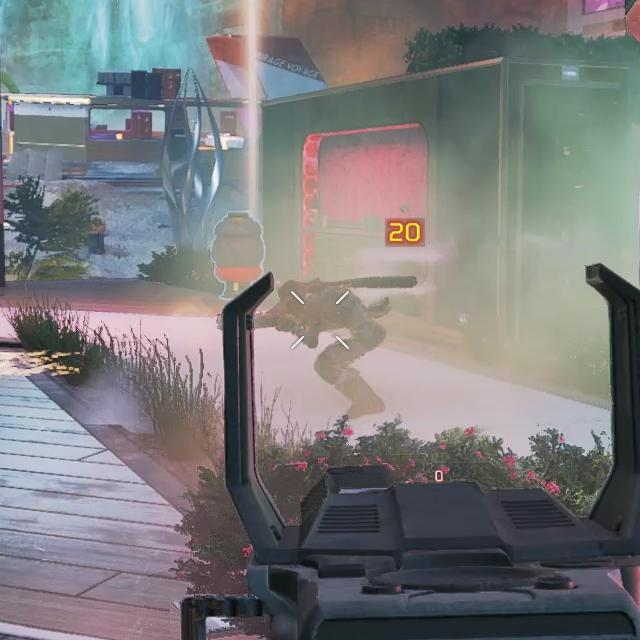avatar: (272, 275, 391, 426)
